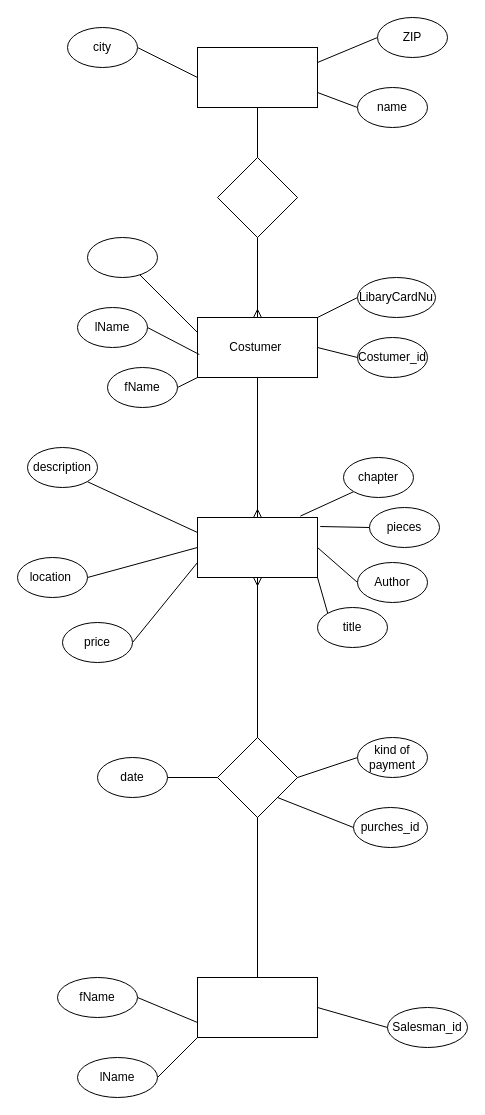
This 485x1115 diagram has some shape labels left out. Each missing label, with the centre of its shape:
"adress" belongs at (x=122, y=257).
"Book" belongs at (x=257, y=547).
"go" belongs at (x=257, y=197).
"Libary" belongs at (x=257, y=77).
"purchase" belongs at (x=257, y=777).
"Salesman" belongs at (x=257, y=1007).
